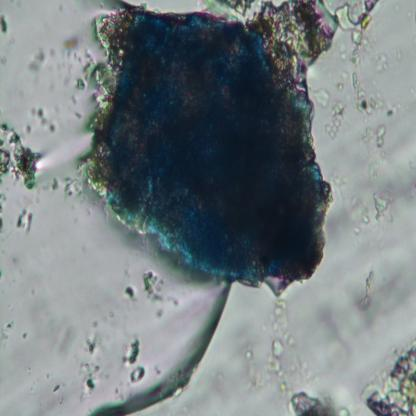Air bubble: (98, 279, 234, 416)
Background material: (256, 0, 338, 84), (362, 339, 416, 416), (352, 259, 408, 331), (332, 0, 378, 71), (271, 296, 305, 392), (328, 173, 372, 240), (0, 128, 43, 194), (356, 123, 392, 186), (323, 305, 357, 371), (137, 264, 178, 314), (79, 48, 113, 106), (288, 388, 354, 416), (346, 75, 381, 119), (76, 332, 100, 393), (361, 182, 396, 223), (242, 337, 266, 393), (122, 341, 150, 388), (314, 84, 351, 117), (24, 108, 63, 135), (392, 162, 416, 203), (50, 176, 82, 198), (18, 49, 47, 73), (324, 112, 342, 142), (13, 209, 32, 233), (66, 40, 82, 67), (0, 316, 16, 342), (123, 278, 138, 300), (376, 57, 390, 80), (0, 16, 13, 38), (386, 102, 396, 119), (53, 386, 63, 396)
Fragment: (106, 9, 338, 294)
